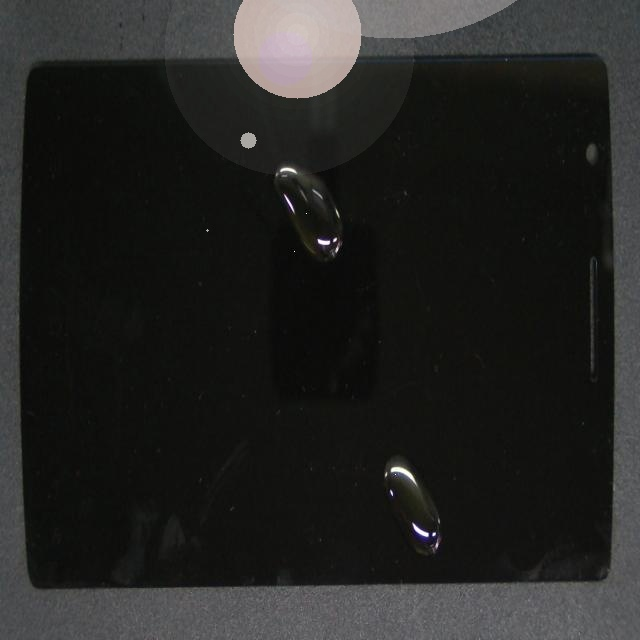oil: (198, 213, 575, 640), (171, 105, 462, 259)
